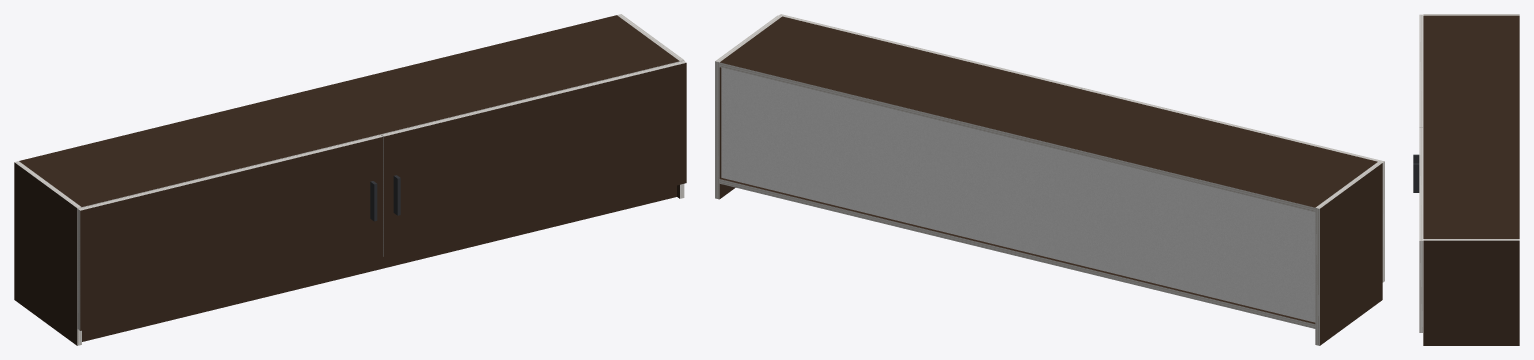
Rendered from BIB-MED-long.glb.
3 views of the same model, side by side, from view 1: azimuth 30°, elevation 25°; view 2: azimuth 150°, elevation 25°; view 3: azimuth 270°, elevation 25° (orthographic). The views are drawn at different scales.
Parts seen in each view (by area): view 1: top:pbr, door-l:pbr, door-r:pbr, side-l:pbr, plinth:pbr, door-l:sheet:eyJtIjoicGx5Iiwic2lkZSI6ImVkZ2UtbG9uZyIsInNlZWQ, door-r:sheet:eyJtIjoicGx5Iiwic2lkZSI6ImVkZ2UtbG9uZyIsInNlZWQ, top:sheet:eyJtIjoicGx5Iiwic2lkZSI6ImVkZ2UtbG9uZyIsInNlZWQiOj, pull; view 2: back:sheet:eyJtIjoibWRmIiwic2lkZSI6ImZhY2UiLCJzZWVkIjoxLCJ0a, top:pbr, side-l:pbr, top:sheet:eyJtIjoicGx5Iiwic2lkZSI6ImVkZ2UtbG9uZyIsInNlZWQiOj, bottom:sheet:eyJtIjoicGx5Iiwic2lkZSI6ImVkZ2UtbG9uZyIsInNlZWQ, bottom:pbr, door-l:sheet:eyJtIjoicGx5Iiwic2lkZSI6ImVkZ2UtbG9uZyIsInNlZWQ, door-r:sheet:eyJtIjoicGx5Iiwic2lkZSI6ImVkZ2UtbG9uZyIsInNlZWQ, side-l:sheet:eyJtIjoicGx5Iiwic2lkZSI6ImVkZ2UtbG9uZyIsInNlZWQ, side-r:sheet:eyJtIjoicGx5Iiwic2lkZSI6ImVkZ2UtbG9uZyIsInNlZWQ; view 3: top:pbr, side-r:pbr, door-l:sheet:eyJtIjoicGx5Iiwic2lkZSI6ImVkZ2UtbG9uZyIsInNlZWQ, door-r:sheet:eyJtIjoicGx5Iiwic2lkZSI6ImVkZ2UtbG9uZyIsInNlZWQ, door-r:sheet:eyJtIjoicGx5Iiwic2lkZSI6ImVkZ2UtZW5kIiwic2VlZCI, pull, side-l:sheet:eyJtIjoicGx5Iiwic2lkZSI6ImVkZ2UtZW5kIiwic2VlZCI, side-r:sheet:eyJtIjoicGx5Iiwic2lkZSI6ImVkZ2UtZW5kIiwic2VlZCI.
Boxes of the visible parts, left/top/right/bottom form: top:pbr: left=19, top=15, right=679, bottom=206; door-l:pbr: left=80, top=137, right=383, bottom=330; door-r:pbr: left=384, top=63, right=686, bottom=256; side-l:pbr: left=14, top=162, right=77, bottom=345; plinth:pbr: left=82, top=185, right=676, bottom=341; door-l:sheet:eyJtIjoicGx5Iiwic2lkZSI6ImVkZ2UtbG9uZyIsInNlZWQ: left=78, top=135, right=382, bottom=210; door-r:sheet:eyJtIjoicGx5Iiwic2lkZSI6ImVkZ2UtbG9uZyIsInNlZWQ: left=381, top=61, right=686, bottom=136; top:sheet:eyJtIjoicGx5Iiwic2lkZSI6ImVkZ2UtbG9uZyIsInNlZWQiOj: left=82, top=61, right=679, bottom=207; pull: left=370, top=175, right=400, bottom=221; back:sheet:eyJtIjoibWRmIiwic2lkZSI6ImZhY2UiLCJzZWVkIjoxLCJ0a: left=721, top=67, right=1315, bottom=322; top:pbr: left=720, top=16, right=1377, bottom=207; side-l:pbr: left=1320, top=163, right=1382, bottom=345; top:sheet:eyJtIjoicGx5Iiwic2lkZSI6ImVkZ2UtbG9uZyIsInNlZWQiOj: left=719, top=62, right=1315, bottom=212; bottom:sheet:eyJtIjoicGx5Iiwic2lkZSI6ImVkZ2UtbG9uZyIsInNlZWQ: left=719, top=179, right=1315, bottom=328; bottom:pbr: left=720, top=177, right=1315, bottom=323; door-l:sheet:eyJtIjoicGx5Iiwic2lkZSI6ImVkZ2UtbG9uZyIsInNlZWQ: left=1081, top=88, right=1384, bottom=162; door-r:sheet:eyJtIjoicGx5Iiwic2lkZSI6ImVkZ2UtbG9uZyIsInNlZWQ: left=779, top=14, right=1081, bottom=88; side-l:sheet:eyJtIjoicGx5Iiwic2lkZSI6ImVkZ2UtbG9uZyIsInNlZWQ: left=1315, top=208, right=1319, bottom=345; side-r:sheet:eyJtIjoicGx5Iiwic2lkZSI6ImVkZ2UtbG9uZyIsInNlZWQ: left=715, top=61, right=719, bottom=199; top:pbr: left=1423, top=15, right=1519, bottom=238; side-r:pbr: left=1423, top=240, right=1519, bottom=345; door-l:sheet:eyJtIjoicGx5Iiwic2lkZSI6ImVkZ2UtbG9uZyIsInNlZWQ: left=1419, top=14, right=1422, bottom=127; door-r:sheet:eyJtIjoicGx5Iiwic2lkZSI6ImVkZ2UtbG9uZyIsInNlZWQ: left=1419, top=128, right=1422, bottom=240; door-r:sheet:eyJtIjoicGx5Iiwic2lkZSI6ImVkZ2UtZW5kIiwic2VlZCI: left=1419, top=241, right=1422, bottom=332; pull: left=1413, top=154, right=1419, bottom=192; side-l:sheet:eyJtIjoicGx5Iiwic2lkZSI6ImVkZ2UtZW5kIiwic2VlZCI: left=1423, top=14, right=1519, bottom=15; side-r:sheet:eyJtIjoicGx5Iiwic2lkZSI6ImVkZ2UtZW5kIiwic2VlZCI: left=1423, top=239, right=1519, bottom=240.
Size of the model in its own units: 2.4 by 0.52 by 0.4769.
Materials: 34 (23 with a texture image).
